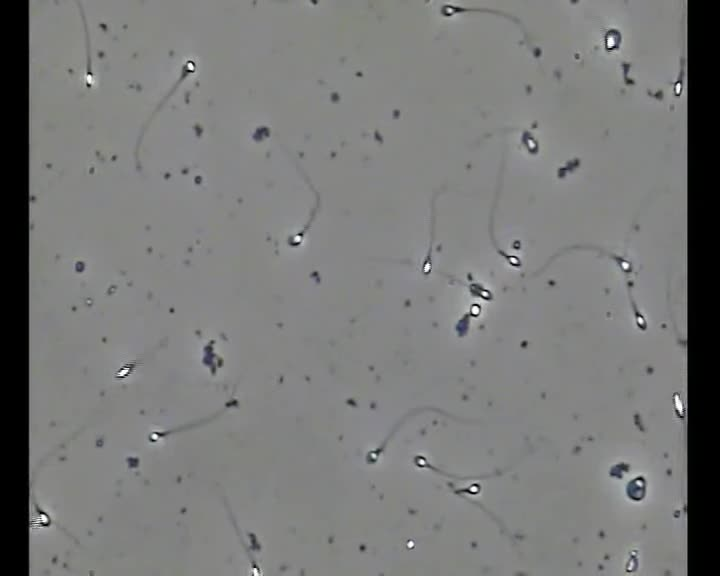spermhead: (625, 475, 646, 501), (468, 282, 492, 300), (521, 130, 538, 154), (604, 28, 621, 51), (114, 361, 135, 379), (672, 392, 685, 419), (624, 550, 639, 573), (440, 3, 466, 16), (181, 59, 196, 77), (634, 310, 647, 330), (288, 231, 304, 246), (366, 447, 381, 463), (616, 257, 631, 273), (148, 430, 165, 443), (248, 561, 263, 575), (505, 254, 521, 267), (422, 255, 432, 275), (466, 481, 480, 495), (84, 71, 96, 87), (414, 455, 428, 468), (469, 302, 481, 317), (673, 78, 682, 97), (38, 512, 50, 526), (407, 538, 415, 549)
